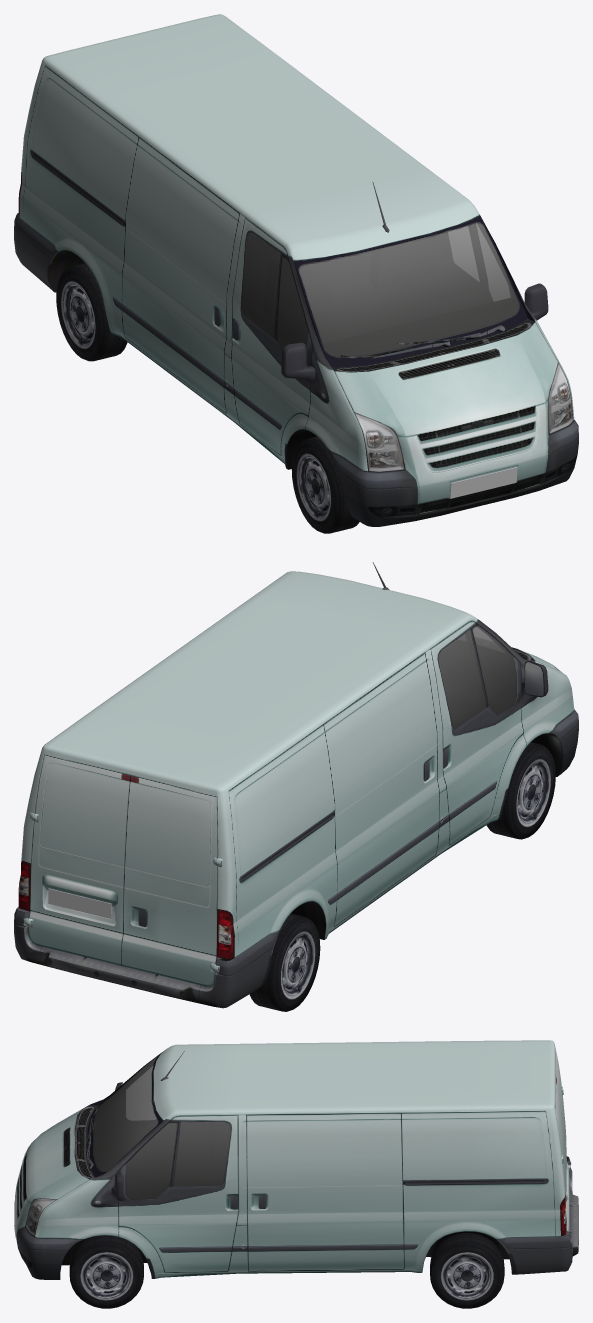
The model's file is van 003_2006.FBX.
3 renders of one model, top to bottom at view 1: azimuth 30°, elevation 25°; view 2: azimuth 150°, elevation 25°; view 3: azimuth 270°, elevation 25°, orthographic. The views are drawn at different scales.
Parts seen in each view (by area): view 1: van03_, van03_gla_, van03_wheel04_, van03_wheel02_; view 2: van03_, van03_gla_, van03_wheel04_, van03_wheel02_; view 3: van03_, van03_gla_, van03_wheel03_, van03_wheel01_.
Boxes of the visible parts, x1,y1,x2,y2 form: van03_: (14,14,578,526); van03_gla_: (241,223,519,357); van03_wheel04_: (56,263,127,361); van03_wheel02_: (291,436,359,533); van03_: (14,562,578,1008); van03_gla_: (438,625,517,729); van03_wheel04_: (249,913,320,1011); van03_wheel02_: (486,742,555,839); van03_: (14,1040,578,1279); van03_gla_: (93,1056,230,1199); van03_wheel03_: (430,1233,504,1308); van03_wheel01_: (69,1235,143,1308).
Size of the model in its own units: 2.19 by 2.25 by 5.29.
